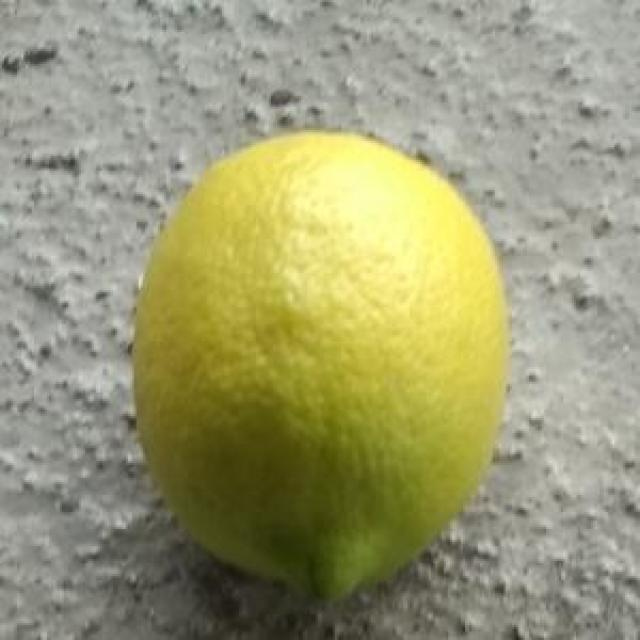lemon: (129, 132, 516, 602)
